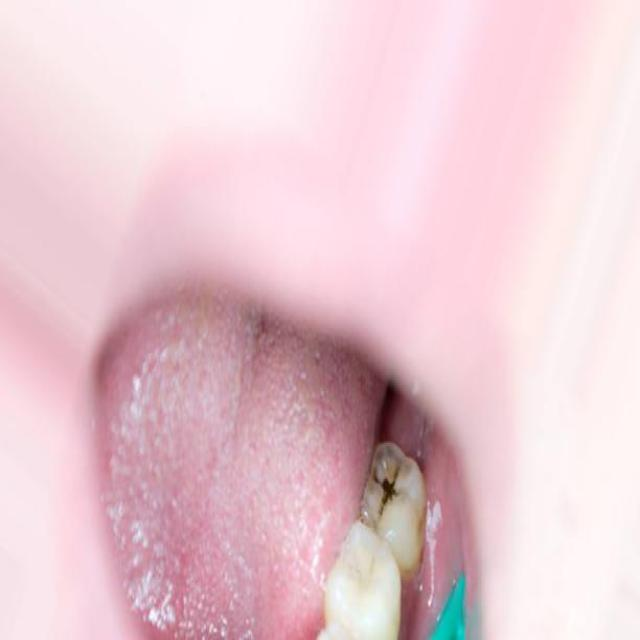caries: (360, 436, 426, 536)
